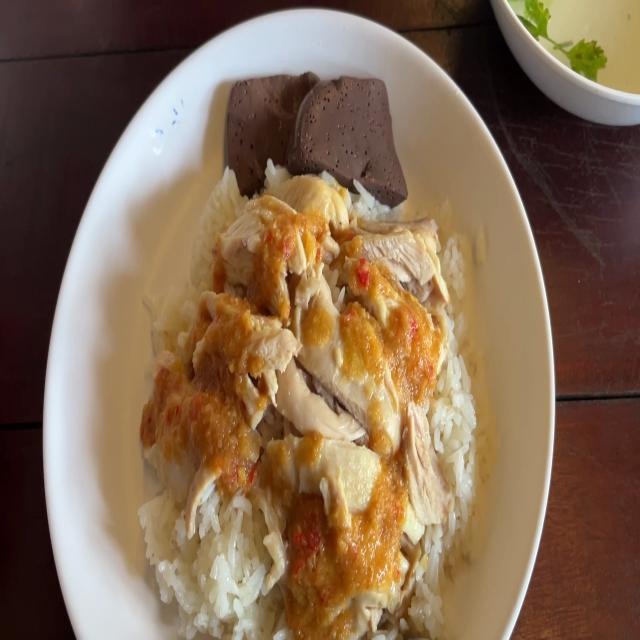boiled_chicken: (192, 201, 405, 558)
boiled_chicken_blood_jelly: (296, 66, 401, 192), (226, 74, 326, 178)
chicken_rice: (128, 68, 487, 636)
